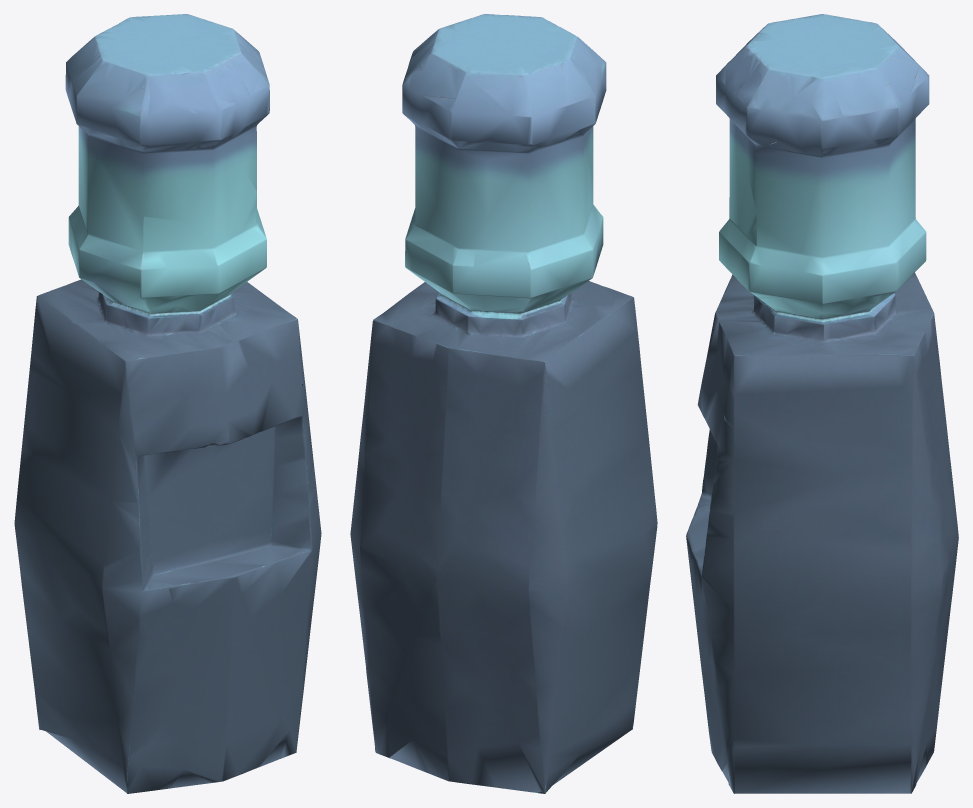
File: cooler.glb
The picture shows the model from 3 angles, left to right: view 1: azimuth 30°, elevation 25°; view 2: azimuth 150°, elevation 25°; view 3: azimuth 270°, elevation 25°; orthographic projection.
Parts seen in each view (by area): view 1: Mesh_0; view 2: Mesh_0; view 3: Mesh_0.
Boxes of the visible parts, bbox=[...] form: Mesh_0: bbox=[14, 14, 321, 793]; Mesh_0: bbox=[350, 14, 657, 793]; Mesh_0: bbox=[686, 14, 958, 793].
Bounding box in the file's own units: 0.6321 × 1.91 × 0.6692.
1 material, 1 textured.
